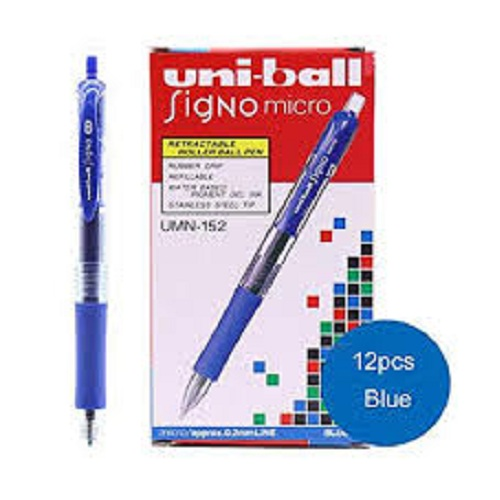Boligrafo: (177, 93, 368, 425), (70, 52, 113, 453)
